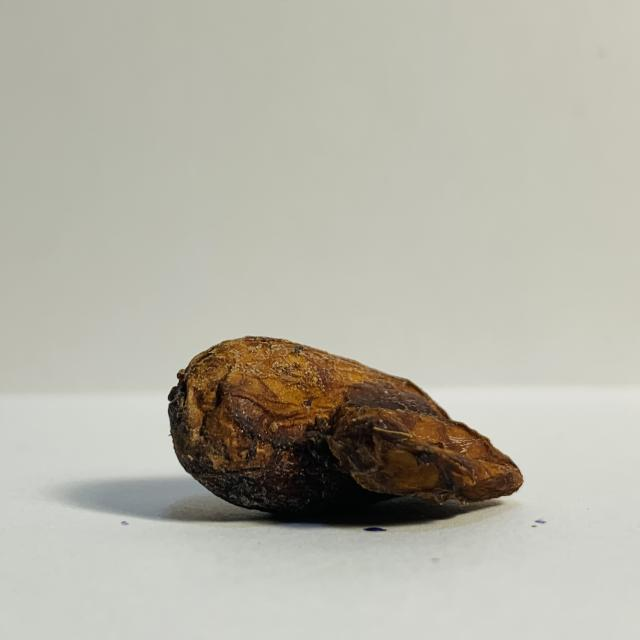Agglomerated_cocoabeans: (63, 294, 562, 564)
